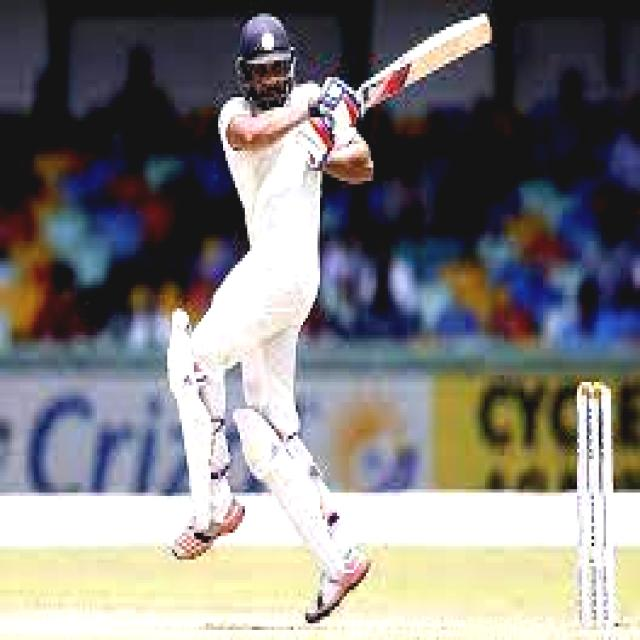toe: (466, 9, 493, 57)
